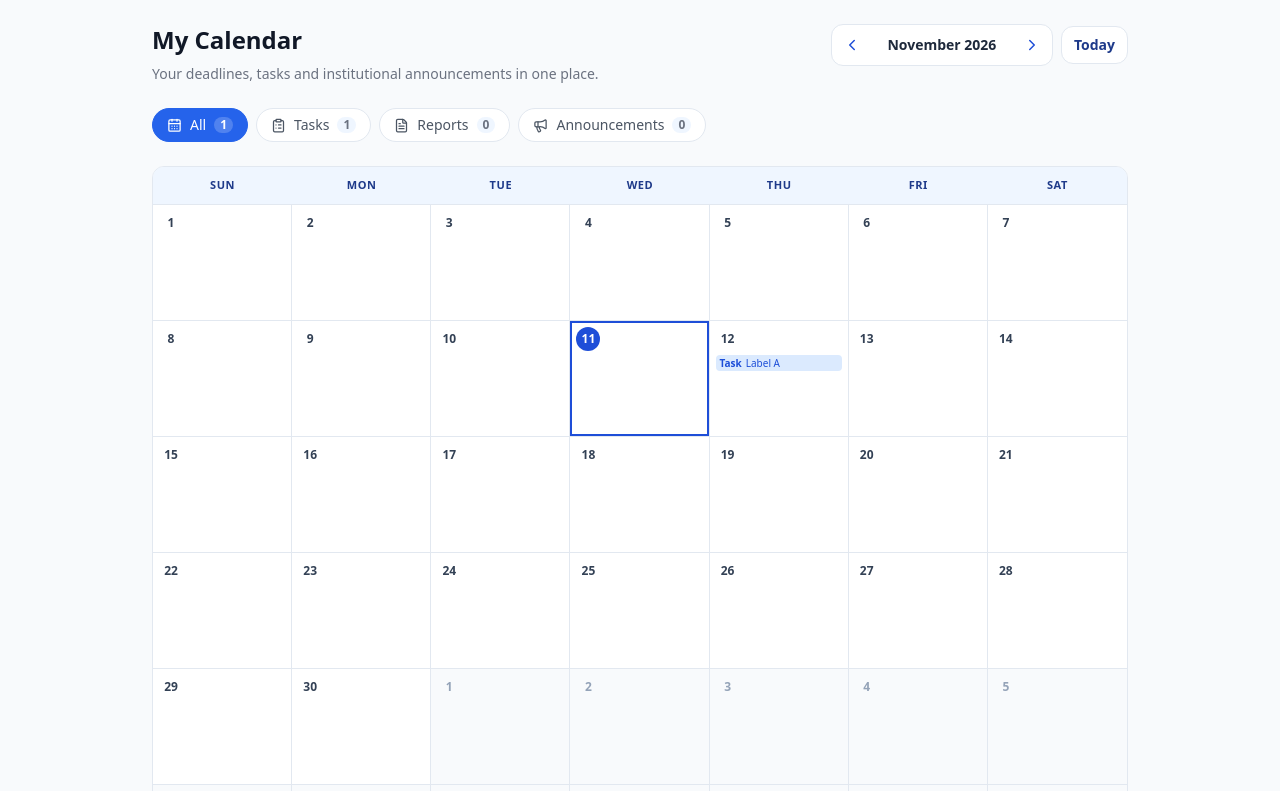
Test: EmployeeCalendarPage (in-cell event labels) › opens an event’s details from its in-cell label
Click the button titled "Task: Label A".
click(779, 363)  # box left=716, top=354, right=842, bottom=371
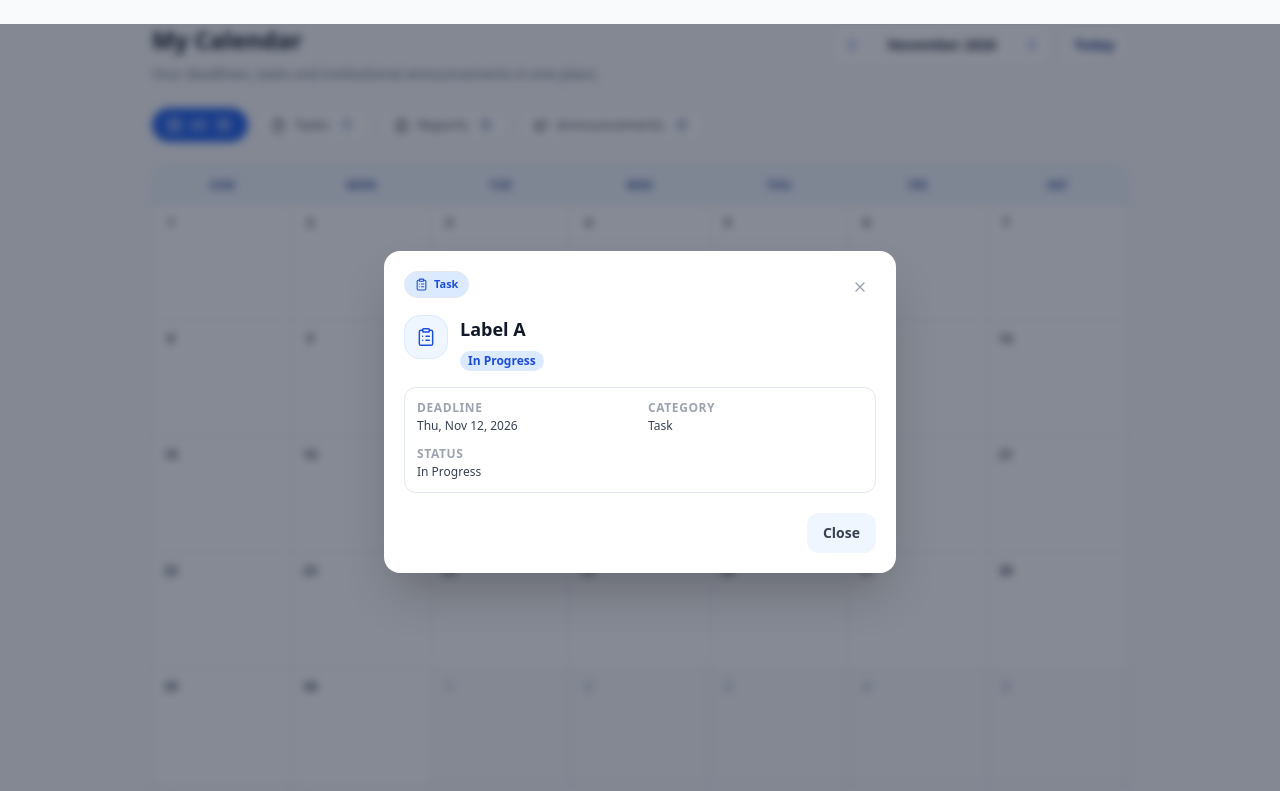
Check: the text "Deadline" is shown, box left=417, top=399, right=482, bottom=416
